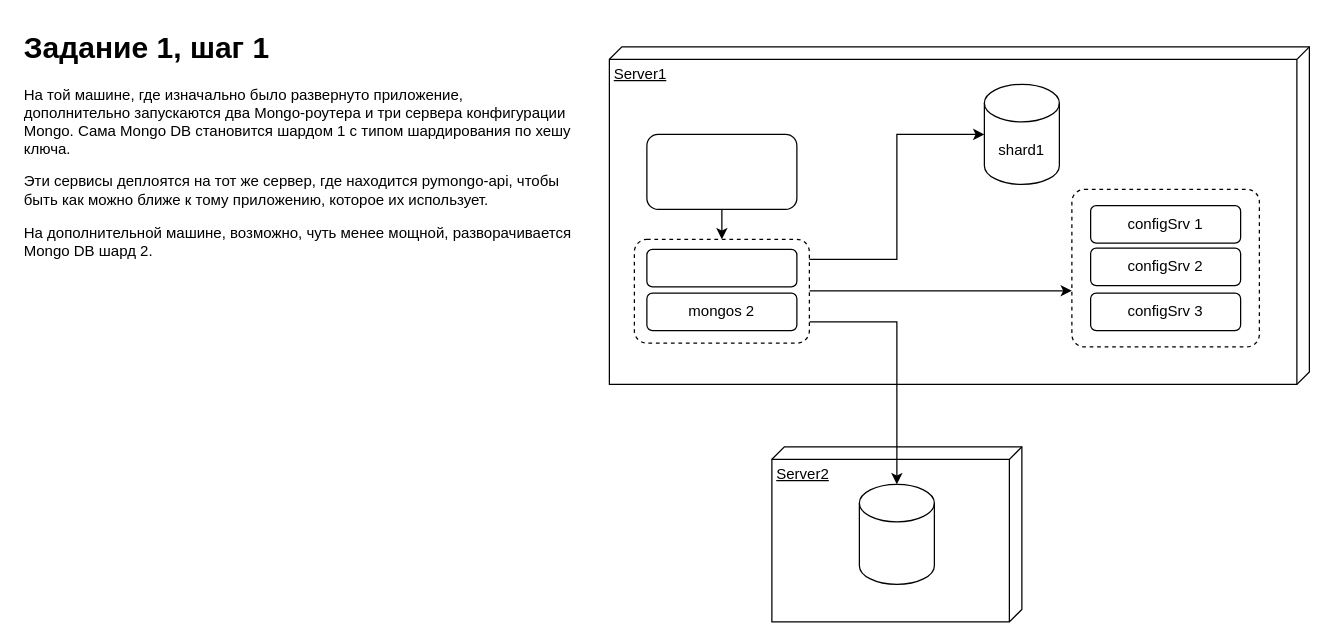
The diagram is 1331 pixels wide and 644 high, and some of its shapes have lost their labels. The centre of each missing label's shape, as x and y in pixels:
mongos 1: the point at 721,267
pymongo-api: the point at 721,171
shard2: the point at 896,533
